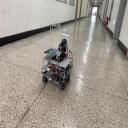cart: (41, 52, 73, 90)
